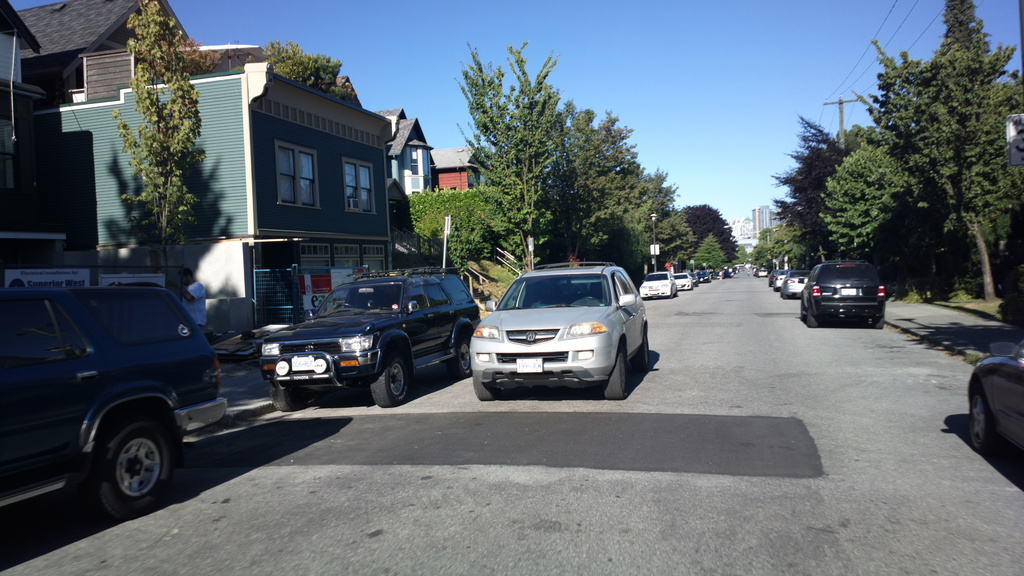Car: (0, 284, 227, 522), (258, 264, 482, 412), (474, 254, 654, 399), (751, 259, 890, 328), (970, 337, 1023, 454), (637, 261, 743, 299)
